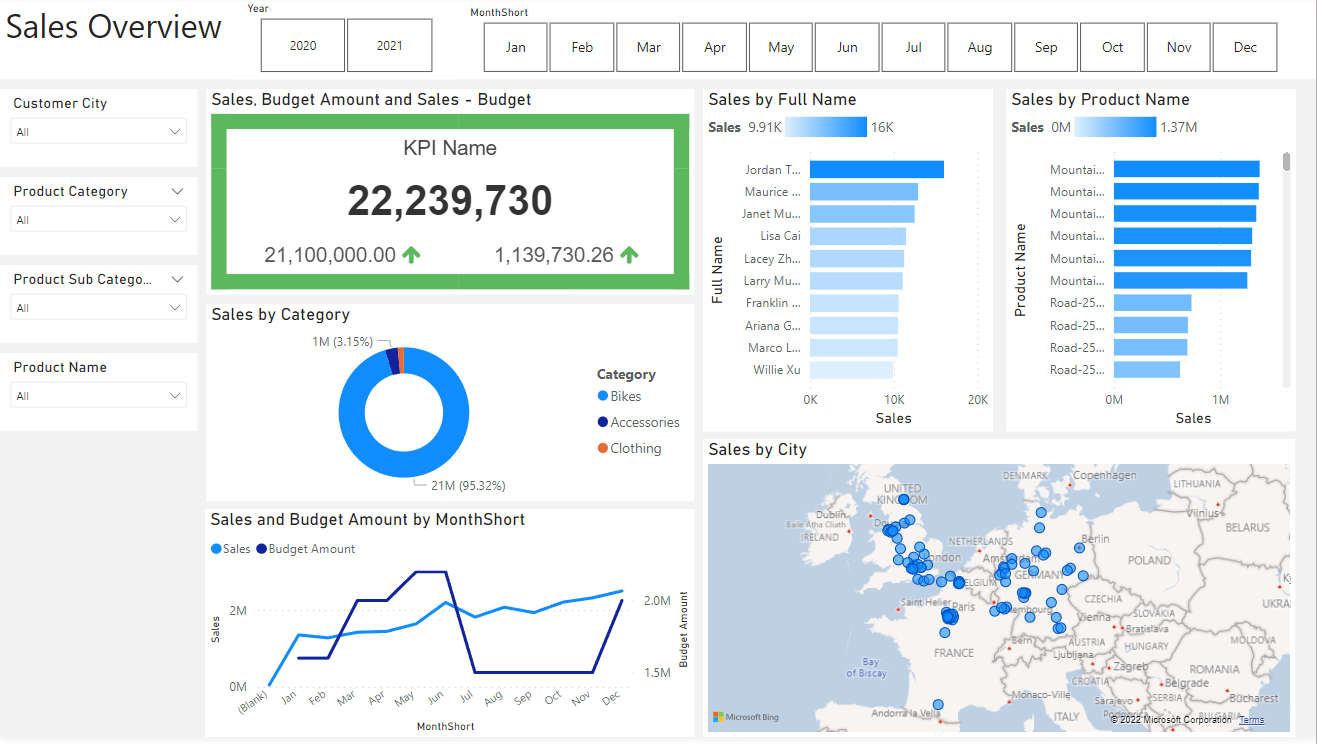

The page's visual inventory and layout, read from the dashboard file:
{"tool":"powerbi","page":{"name":"Sales Overview","canvas":[1280,720],"ordinal":0},"visuals":[{"type":"textbox","box":[0,0,1280,79.8],"z":0},{"type":"slicer","fields":{"Values":["DIM_Customer.Customer City"]},"box":[0,89.2,191.6,75.9],"z":1000},{"type":"slicer","fields":{"Values":["DIM_Product.ProductSubcategoryKey"]},"box":[0,260.4,191.6,75.9],"z":2000},{"type":"slicer","fields":{"Values":["DIM_Product.ProductCategoryKey"]},"box":[0,174.8,191.6,75.9],"z":3000},{"type":"slicer","fields":{"Values":["DIM_Product.Product Name"]},"box":[0,346.3,191.6,75.9],"z":4000},{"type":"slicer","fields":{"Values":["DIM_Calendar.Year"]},"box":[227.6,0,216.9,79.8],"z":5000},{"type":"slicer","fields":{"Values":["DIM_Calendar.MonthShort"]},"box":[444.5,3.9,821.9,75.9],"z":7000},{"type":"donutChart","fields":{"Category":["DIM_CategoryKey.EnglishProductCategoryName"],"Y":["Key Measures.Sales"]},"box":[200.2,298.5,475,192.3],"z":8000},{"type":"lineChart","fields":{"Y2":["Key Measures.Budget Amount"],"Y":["Key Measures.Sales"],"Category":["DIM_Calendar.MonthShort"]},"box":[199.3,497.9,475.9,222.1],"z":9000},{"type":"clusteredBarChart","fields":{"Y":["Key Measures.Sales"],"Category":["DIM_Product.Product Name"]},"box":[978.5,89.5,282.1,332.6],"z":10000},{"type":"clusteredBarChart","fields":{"Y":["Key Measures.Sales"],"Category":["DIM_Customer.Full Name"]},"box":[684,89.6,281.9,332.8],"z":11000},{"type":"map","fields":{"Category":["DIM_Customer.Customer City"]},"box":[684,430.2,576,289.8],"z":12000},{"type":"BBED0A4D4D8D44CE93CF2DAFADEE466C","fields":{"actual":["Key Measures.Sales"],"target2":["Key Measures.Sales - Budget"],"target1":["Key Measures.Budget Amount"]},"box":[200.4,89.5,474.7,200.4],"z":12001}]}

Visuals, with their boxes in screenshot pixels (x1, y1, x2, y2), scaled from the page's 1280x720 canvas onto the 1317x744 screenshot:
textbox: rect(0, 0, 1316, 82)
slicer - DIM_Customer.Customer City: rect(0, 92, 197, 171)
slicer - DIM_Product.ProductSubcategoryKey: rect(0, 269, 197, 348)
slicer - DIM_Product.ProductCategoryKey: rect(0, 181, 197, 259)
slicer - DIM_Product.Product Name: rect(0, 358, 197, 436)
slicer - DIM_Calendar.Year: rect(234, 0, 457, 82)
slicer - DIM_Calendar.MonthShort: rect(457, 4, 1303, 82)
donutChart - DIM_CategoryKey.EnglishProductCategoryName x Key Measures.Sales: rect(206, 308, 695, 507)
lineChart - Key Measures.Budget Amount x Key Measures.Sales: rect(205, 514, 695, 743)
clusteredBarChart - Key Measures.Sales x DIM_Product.Product Name: rect(1007, 92, 1297, 436)
clusteredBarChart - Key Measures.Sales x DIM_Customer.Full Name: rect(704, 93, 994, 436)
map - DIM_Customer.Customer City: rect(704, 445, 1296, 743)
BBED0A4D4D8D44CE93CF2DAFADEE466C - Key Measures.Sales x Key Measures.Sales - Budget: rect(206, 92, 695, 300)
